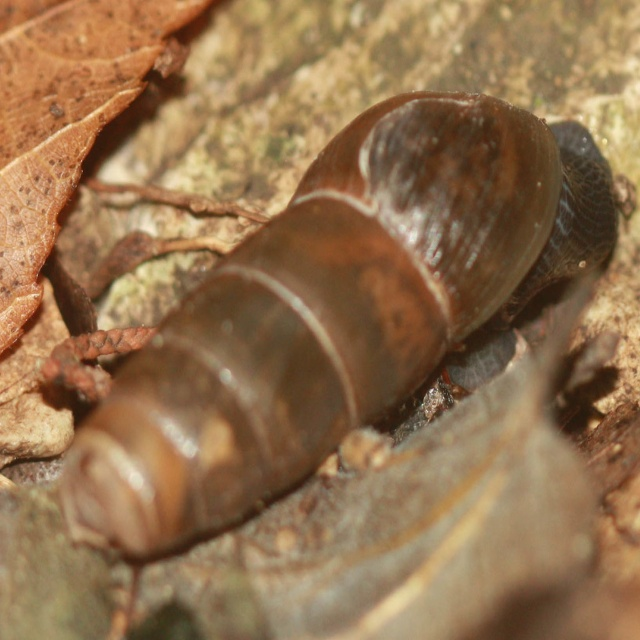Snail: (49, 84, 633, 561)
